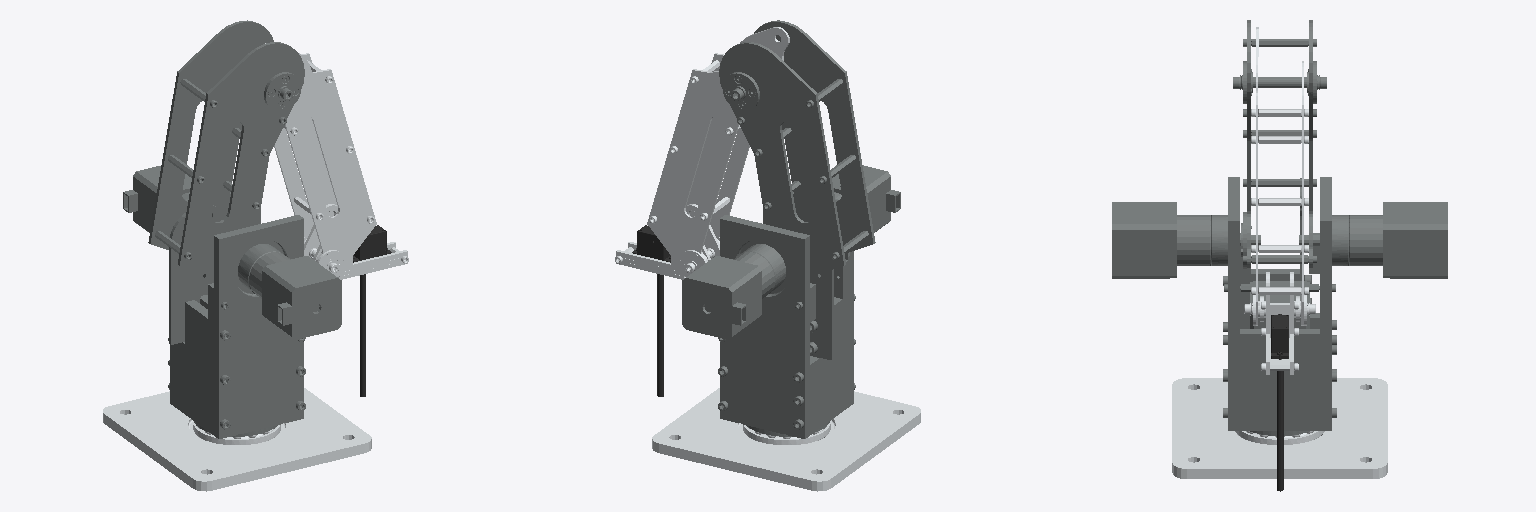
robot.urdf — armbot:
<?xml version="1.0" encoding="utf-8" ?>
<!-- This URDF was automatically created by SolidWorks to URDF Exporter! Originally created by [author] ([email redacted])
     Commit Version: 1.6.0-4-g7f85cfe  Build Version: 1.6.7995.38578
     For more information, please see http://wiki.ros.org/sw_urdf_exporter -->
<robot name="armbot">
    <link name="world" />
    <joint name="joint1_world" type="fixed">
        <parent link="world" />
        <child link="base_link" />
    </joint>
    <link name="base_link">

<inertial>
            <origin xyz="-2.71598519113409E-09 2.95460784927454E-08 0.00471164634309819" rpy="0 0 0" />
            <mass value="0.539924220844728" />
            <inertia ixx="0.000900127008306627" ixy="2.4109041703057E-11" ixz="-2.74229850494269E-12" iyy="0.000900126622269955" iyz="1.00434637976307E-10" izz="0.00179527912392399" />
        </inertial>

        <visual>
            <origin xyz="0 0 0" rpy="0 0 0" />
            <geometry>
                <mesh filename="package://armbot_description/meshes/model_best/base_link.STL" />
            </geometry>
            <material name="">
                <color rgba="0.898039215686275 0.917647058823529 0.929411764705882 1" />
            </material>
        </visual>
        <collision>
            <origin xyz="0 0 0" rpy="0 0 0" />
            <geometry>
                <mesh filename="package://armbot_description/meshes/model_best/base_link.STL" />
            </geometry>
        </collision>
    </link>
    <link name="link_1">

<inertial>
            <origin xyz="-0.000351777935782599 -8.3567663927646E-06 0.0898336401547187" rpy="0 0 0" />
            <mass value="3.66151948541535" />
            <inertia ixx="0.00310618079266536" ixy="-2.45620483314348E-10" ixz="-4.2642286678122E-06" iyy="0.00238146240355345" iyz="6.19764914060838E-06" izz="0.00193792067716221" />
        </inertial>

        <visual>
            <origin xyz="0 0 0" rpy="0 0 0" />
            <geometry>
                <mesh filename="package://armbot_description/meshes/model_best/link_1.STL" />
            </geometry>
            <material name="">
                <color rgba="0.529411764705882 0.549019607843137 0.549019607843137 1" />
            </material>
        </visual>
        <collision>
            <origin xyz="0 0 0" rpy="0 0 0" />
            <geometry>
                <mesh filename="package://armbot_description/meshes/model_best/link_1.STL" />
            </geometry>
        </collision>
    </link>
    <joint name="joint_1" type="revolute">
        <origin xyz="0 0 0.023" rpy="0 0 0" />
        <parent link="base_link" />
        <child link="link_1" />
        <axis xyz="0 0 1" />
        <limit lower="-2.25" upper="2.25" effort="150" velocity="3.15" />
    </joint>
    <link name="link_2">

<inertial>
            <origin xyz="-0.00481374339877721 -0.0860772263678712 -0.0170516442881634" rpy="0 0 0" />
            <mass value="0.270091528613745" />
            <inertia ixx="0.000514671801471032" ixy="9.16010403434671E-05" ixz="1.34376441107647E-12" iyy="0.000110751048572733" iyz="1.04403379274225E-11" izz="0.000606312552798777" />
        </inertial>

        <visual>
            <origin xyz="0 0 0" rpy="0 0 0" />
            <geometry>
                <mesh filename="package://armbot_description/meshes/model_best/link_2.STL" />
            </geometry>
            <material name="">
                <color rgba="0.529411764705882 0.549019607843137 0.549019607843137 1" />
            </material>
        </visual>
        <collision>
            <origin xyz="0 0 0" rpy="0 0 0" />
            <geometry>
                <mesh filename="package://armbot_description/meshes/model_best/link_2.STL" />
            </geometry>
        </collision>
    </link>
    <joint name="joint_2" type="revolute">
        <origin xyz="0 0.017 0.126" rpy="-1.5708 0 0" />
        <parent link="link_1" />
        <child link="link_2" />
        <axis xyz="0 0 1" />
        <limit lower="0" upper="1.570796325" effort="150" velocity="3.15" />
    </joint>
    <link name="link_3">

<inertial>
            <origin xyz="-0.080178553869397 0.0470442917892616 -0.0287545509911682" rpy="0 0 0" />
            <mass value="0.138752300390972" />
            <inertia ixx="5.09807168492351E-05" ixy="7.5240974139738E-05" ixz="2.72130477876753E-10" iyy="0.000210687613647716" iyz="-1.32404666332968E-10" izz="0.000256277873413444" />
        </inertial>

        <visual>
            <origin xyz="0 0 0" rpy="0 0 0" />
            <geometry>
                <mesh filename="package://armbot_description/meshes/model_best/link_3.STL" />
            </geometry>
            <material name="">
                <color rgba="0.898039215686275 0.917647058823529 0.929411764705882 1" />
            </material>
        </visual>
        <collision>
            <origin xyz="0 0 0" rpy="0 0 0" />
            <geometry>
                <mesh filename="package://armbot_description/meshes/model_best/link_3.STL" />
            </geometry>
        </collision>
    </link>
    <joint name="joint_3" type="revolute">
        <origin xyz="0.024396 -0.13278 0.011298" rpy="0 0 -1.5026" />
        <parent link="link_2" />
        <child link="link_3" />
        <axis xyz="0 0 1" />
        <limit lower="-1.570796325" upper="0" effort="150" velocity="3.15" />
    </joint>
    <link name="link_4">

<inertial>
            <origin xyz="0.0252665043273254 -0.0213987090714586 -0.00292723331960382" rpy="0 0 0" />
            <mass value="0.0428002294983427" />
            <inertia ixx="5.61420284677293E-06" ixy="1.49030732816633E-14" ixz="2.98503982130507E-06" iyy="1.51155017105663E-05" iyz="-1.07259707646414E-21" izz="1.031136516409E-05" />
        </inertial>

        <visual>
            <origin xyz="0 0 0" rpy="0 0 0" />
            <geometry>
                <mesh filename="package://armbot_description/meshes/model_best/link_4.STL" />
            </geometry>
            <material name="">
                <color rgba="0.898039215686275 0.917647058823529 0.929411764705882 1" />
            </material>
        </visual>
        <collision>
            <origin xyz="0 0 0" rpy="0 0 0" />
            <geometry>
                <mesh filename="package://armbot_description/meshes/model_best/link_4.STL" />
            </geometry>
        </collision>
    </link>
    <joint name="joint_4" type="revolute">
        <origin xyz="-0.15035 0.054723 -0.0068996" rpy="1.5708 0 1.5026" />
        <parent link="link_3" />
        <child link="link_4" />
        <axis xyz="0 1 0" />
        <limit lower="-3.14159265" upper="3.14159265" effort="150" velocity="3.15" />
    </joint>
    <link name="link_end">

<inertial>
            <origin xyz="0.0426390524596975 -0.0213989196125616 -0.00265741118685078" rpy="0 0 0" />
            <mass value="0.0563600278018004" />
            <inertia ixx="3.93235368638856E-06" ixy="1.53808854573811E-11" ixz="-3.15138585201782E-07" iyy="5.8909074621393E-06" iyz="9.57169866003367E-11" izz="3.24845632092875E-06" />
        </inertial>

        <visual>
            <origin xyz="0 0 0" rpy="0 0 0" />
            <geometry>
                <mesh filename="package://armbot_description/meshes/model_best/link_end.STL" />
            </geometry>
            <material name="">
                <color rgba="0.250980392156863 0.250980392156863 0.250980392156863 1" />
            </material>
        </visual>
        <collision>
            <origin xyz="0 0 0" rpy="0 0 0" />
            <geometry>
                <mesh filename="package://armbot_description/meshes/model_best/link_end.STL" />
            </geometry>
        </collision>
    </link>
    <joint name="joint_end" type="fixed">
        <origin xyz="0 0 0" rpy="0 0 0" />
        <parent link="link_4" />
        <child link="link_end" />
        <axis xyz="0 0 0" />
    </joint>
    <link name="link_grip">

<inertial>
            0.039718 -0.022648 -0.0215
            <origin xyz="-0.00291526668033122 0.00124883090327234 -0.0189247801902456" rpy="0 0 0" />
            <mass value="0.0557728067893349" />
            <inertia ixx="3.92728176216103E-06" ixy="-2.61102891180612E-12" ixz="-3.15138580124601E-07" iyy="5.88583553323266E-06" iyz="-9.57169867105495E-11" izz="3.24790074280327E-06" />
        </inertial>

        <visual>
            <origin xyz="0 0 0" rpy="0 0 0" />
            <geometry>
                <cylinder length="0.10" radius="0.0025" />
                <!--<mesh
          filename="package://armbot_description/meshes/model_best/link_grip.STL" />-->
            </geometry>
            <material name="">
                <color rgba="0.250980392156863 0.250980392156863 0.250980392156863 1" />
            </material>
        </visual>
        <collision>
            <origin xyz="0 0 0" rpy="0 0 0" />
            <geometry>
                <cylinder length="0.10" radius="0.0025" />
                <!--<mesh
          filename="package://armbot_description/meshes/model_best/link_grip.STL" />-->
            </geometry>
        </collision>
    </link>
    <joint name="joint_grip" type="revolute">
        <origin xyz="0.037918 -0.021328 -0.0715" rpy="3.1416 0 3.1416" />
        <parent link="link_end" />
        <child link="link_grip" />
        <axis xyz="0 0 1" />
        <limit lower="-1.570796325" upper="1.570796325" effort="150" velocity="3.15" />
    </joint>

<transmission name="trans_joint_1">
        <type>transmission_interface/SimpleTransmission</type>
        <joint name="joint_1">
            <hardwareInterface>hardware_interface/PositionJointInterface</hardwareInterface>
        </joint>
        <actuator name="joint_1_motor">
            <hardwareInterface>hardware_interface/PositionJointInterface</hardwareInterface>
            <mechanicalReduction>1</mechanicalReduction>
        </actuator>
    </transmission>
    <transmission name="trans_joint_2">
        <type>transmission_interface/SimpleTransmission</type>
        <joint name="joint_2">
            <hardwareInterface>hardware_interface/PositionJointInterface</hardwareInterface>
        </joint>
        <actuator name="joint_2_motor">
            <hardwareInterface>hardware_interface/PositionJointInterface</hardwareInterface>
            <mechanicalReduction>1</mechanicalReduction>
        </actuator>
    </transmission>
    <transmission name="trans_joint_3">
        <type>transmission_interface/SimpleTransmission</type>
        <joint name="joint_3">
            <hardwareInterface>hardware_interface/PositionJointInterface</hardwareInterface>
        </joint>
        <actuator name="joint_3_motor">
            <hardwareInterface>hardware_interface/PositionJointInterface</hardwareInterface>
            <mechanicalReduction>1</mechanicalReduction>
        </actuator>
    </transmission>
    <transmission name="trans_joint_4">
        <type>transmission_interface/SimpleTransmission</type>
        <joint name="joint_4">
            <hardwareInterface>hardware_interface/PositionJointInterface</hardwareInterface>
        </joint>
        <actuator name="joint_4_motor">
            <hardwareInterface>hardware_interface/PositionJointInterface</hardwareInterface>
            <mechanicalReduction>1</mechanicalReduction>
        </actuator>
    </transmission>
    <transmission name="trans_joint_grip">
        <type>transmission_interface/SimpleTransmission</type>
        <joint name="joint_grip">
            <hardwareInterface>hardware_interface/PositionJointInterface</hardwareInterface>
        </joint>
        <actuator name="joint_grip_motor">
            <hardwareInterface>hardware_interface/PositionJointInterface</hardwareInterface>
            <mechanicalReduction>1</mechanicalReduction>
        </actuator>
    </transmission>
    <gazebo>
        <plugin name="gazebo_ros_control" filename="libgazebo_ros_control.so">
            <robotNamespace>/</robotNamespace>
        </plugin>
    </gazebo>
</robot>

--- Render facts (derived) ---
3 views of the same robot in one strip: view 1: azimuth 30°, elevation 25°; view 2: azimuth 150°, elevation 25°; view 3: azimuth 270°, elevation 25° (orthographic).
Robot: armbot — 8 links, 7 joints (5 revolute, 2 fixed); root link world; default pose: every joint at zero.
Links seen in each view (by area): view 1: link_1, link_2, base_link, link_3, link_4, link_end, link_grip; view 2: link_1, link_2, base_link, link_3, link_4, link_grip, link_end; view 3: link_1, base_link, link_2, link_3, link_4, link_grip, link_end.
Link boxes in pixels (bbox=[...]): link_1: bbox=[123, 166, 341, 438]; link_2: bbox=[148, 20, 304, 277]; base_link: bbox=[103, 388, 371, 491]; link_3: bbox=[265, 43, 376, 276]; link_4: bbox=[304, 204, 408, 279]; link_end: bbox=[353, 225, 391, 262]; link_grip: bbox=[360, 274, 365, 396]; link_1: bbox=[682, 165, 900, 438]; link_2: bbox=[719, 20, 875, 277]; base_link: bbox=[652, 388, 920, 491]; link_3: bbox=[647, 27, 789, 276]; link_4: bbox=[615, 204, 719, 279]; link_grip: bbox=[657, 274, 663, 396]; link_end: bbox=[632, 225, 670, 262]; link_1: bbox=[1112, 177, 1447, 435]; base_link: bbox=[1172, 378, 1387, 478]; link_2: bbox=[1233, 20, 1326, 268]; link_3: bbox=[1244, 27, 1315, 325]; link_4: bbox=[1261, 272, 1298, 374]; link_grip: bbox=[1277, 371, 1283, 491]; link_end: bbox=[1271, 314, 1288, 359].
Size in the robot's own frame: 0.2137 by 0.234 by 0.3217 metres.
6 mesh visuals loaded from 6 distinct referenced files (6 binary STL).
